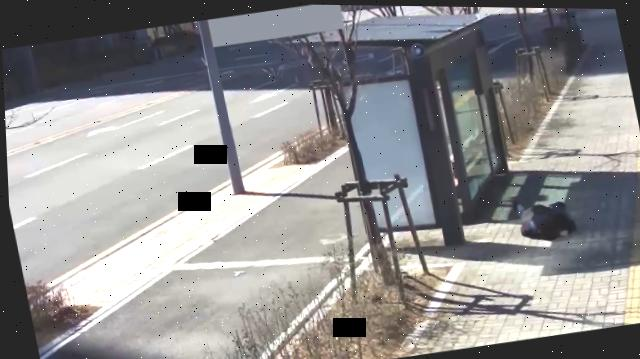fall: (506, 192, 580, 241)
